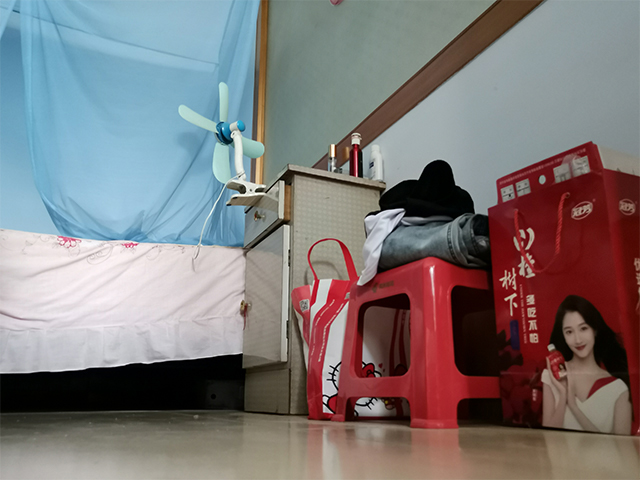bed: (1, 226, 246, 409)
cabinet: (239, 161, 387, 417)
stool: (329, 255, 503, 431)
